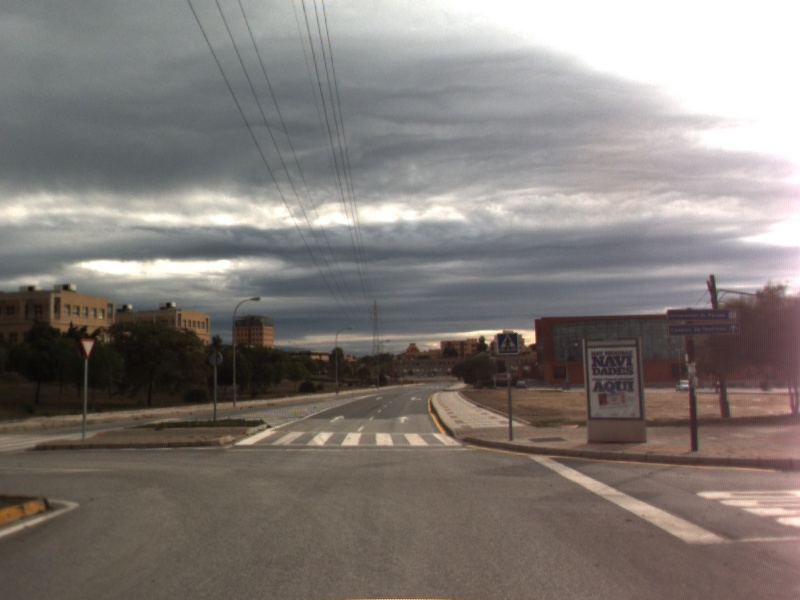STRAIGHT: (327, 413, 347, 425), (395, 413, 411, 425)
